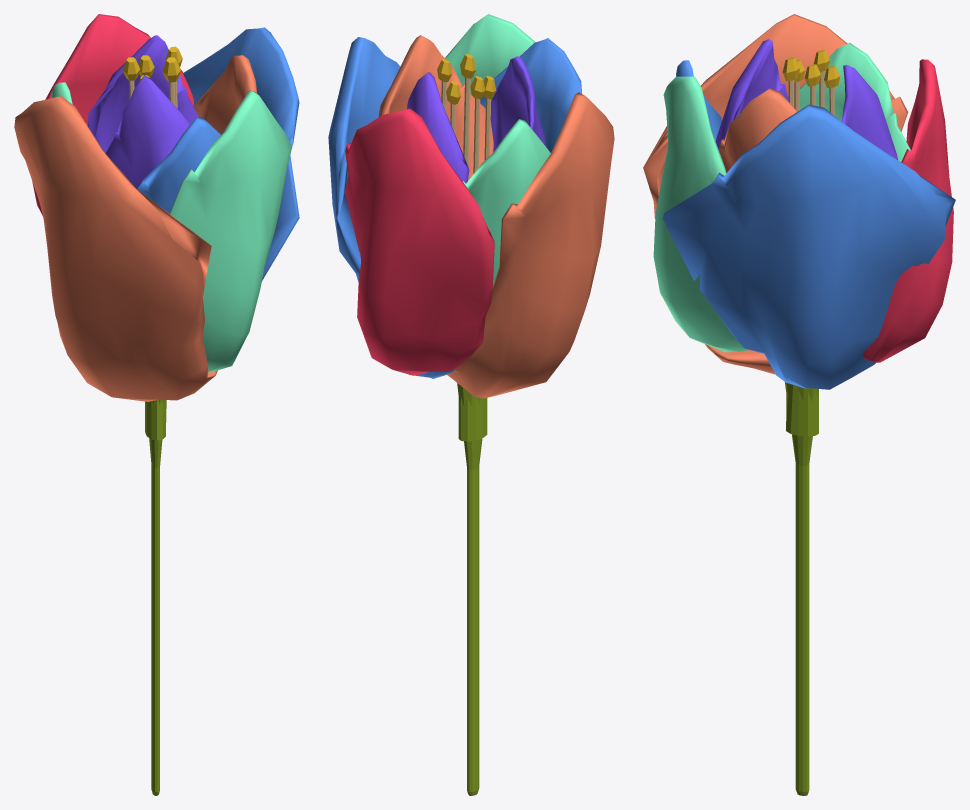
File: Flower 3.fbx
3 renders of one model, left to right at view 1: azimuth 30°, elevation 25°; view 2: azimuth 150°, elevation 25°; view 3: azimuth 270°, elevation 25°, orthographic.
Visible parts, largest first — view 1: Plane.176; view 2: Plane.176; view 3: Plane.176.
Boxes of the visible parts, left/top/right/bottom form: Plane.176: left=14, top=14, right=299, bottom=795; Plane.176: left=328, top=14, right=614, bottom=795; Plane.176: left=643, top=14, right=955, bottom=795.
Bounding box in the file's own units: 1.65 × 4.92 × 1.88.
